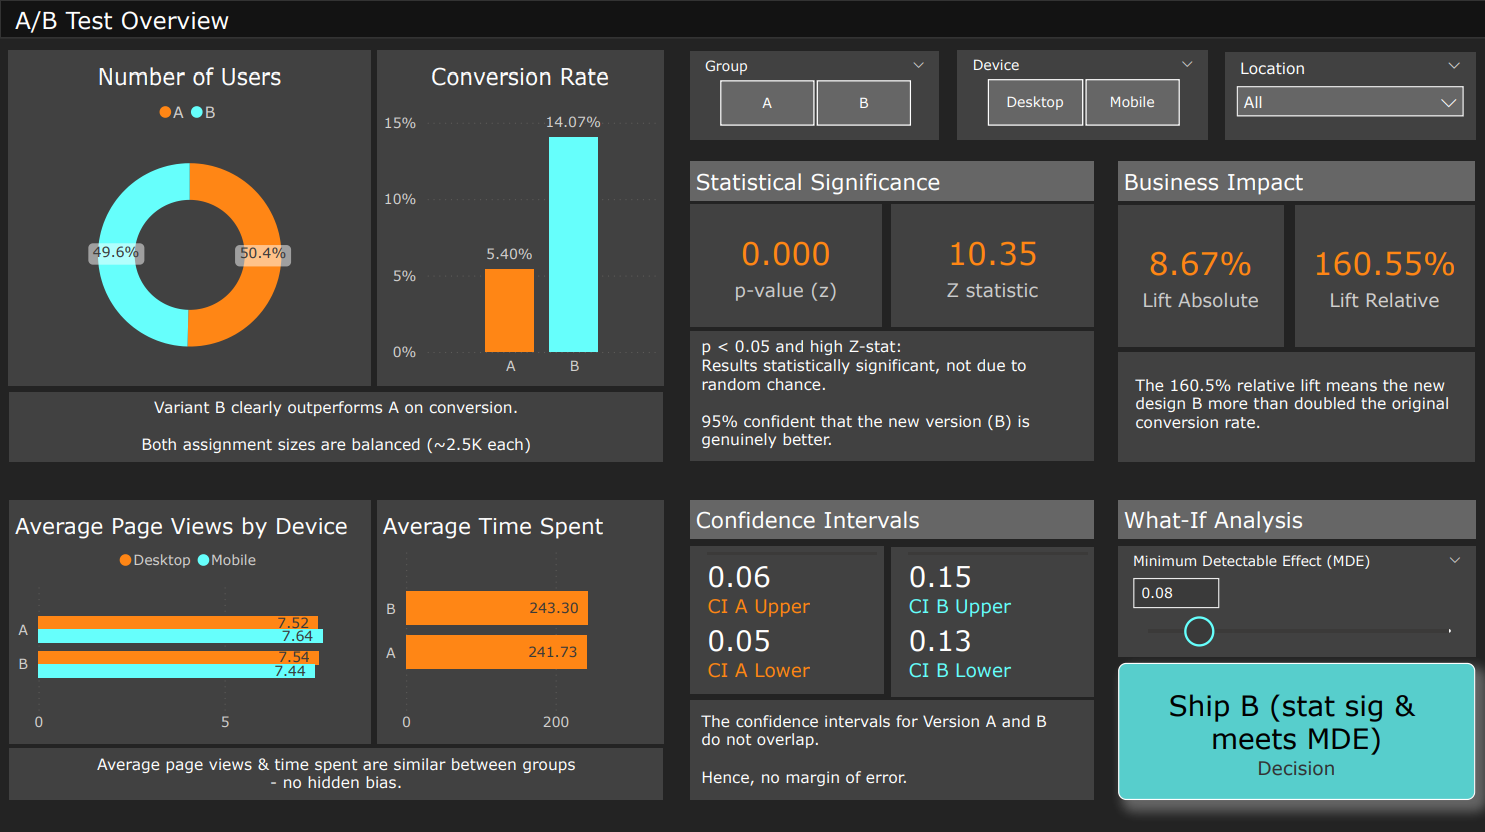

The dashboard page shown, as its layout file describes it:
{"tool":"powerbi","page":{"name":"Overview","canvas":[1280,720],"ordinal":0},"visuals":[{"type":"card","fields":{"Values":["ab_testing.Decision"]},"box":[961.5,570.6,307.6,118.2],"z":0},{"type":"card","fields":{"Values":["ab_testing.Z statistic"]},"box":[767.3,177.3,173.7,105],"z":1000},{"type":"card","fields":{"Values":["ab_testing.p-value (z)"]},"box":[593.6,177.3,165.3,105],"z":2000},{"type":"clusteredColumnChart","title":"Conversion Rate","fields":{"Category":["ab_testing.group"],"Y":["ab_testing.ConvRate (overall)"]},"box":[325.4,44.6,245.4,288.5],"z":3000},{"type":"clusteredBarChart","title":"Average Page Views by Device","fields":{"Category":["ab_testing.group"],"Y":["Avg(ab_testing.page_views)"],"Series":["ab_testing.device"]},"box":[8.8,431.2,311.2,208.8],"z":4000},{"type":"slicer","fields":{"Values":["ab_testing.group"]},"box":[593.6,45.8,214.7,74.8],"z":5000},{"type":"slicer","fields":{"Values":["ab_testing.device"]},"box":[824,44.6,214.7,76],"z":6000},{"type":"slicer","fields":{"Values":["ab_testing.location"]},"box":[1054.4,47.1,214.7,73.6],"z":7000},{"type":"donutChart","title":"Number of Users","fields":{"Y":["ab_testing.Users Count"],"Category":["ab_testing.group"]},"box":[8.4,44.6,311.3,288.3],"z":8000},{"type":"multiRowCard","fields":{"Values":["ab_testing.CI A Upper","ab_testing.CI A Lower"]},"box":[593.6,470.5,166.5,127.9],"z":9000},{"type":"textbox","box":[8.8,337.5,562.5,60],"z":10000},{"type":"textbox","box":[593.6,285.9,347.5,111],"z":11000},{"type":"textbox","title":"A/B Test Overview","box":[0,0,1280,35],"z":12000},{"type":"multiRowCard","fields":{"Values":["ab_testing.CI B Upper","ab_testing.CI B Lower"]},"box":[767.3,470.5,173.7,129.1],"z":13000},{"type":"barChart","title":"Average Time Spent","fields":{"Category":["ab_testing.group"],"Y":["Avg(ab_testing.time_spent)"]},"box":[325,431.2,246.2,208.8],"z":14000},{"type":"slicer","fields":{"Values":["MDE_pct.MDE_pct"]},"box":[961.5,470.5,307.6,95.3],"z":15000},{"type":"textbox","box":[8.8,645,562.5,43.8],"z":16000},{"type":"textbox","box":[593.6,603.2,347.5,85.7],"z":17000},{"type":"card","fields":{"Values":["ab_testing.Lift Relative"]},"box":[1113.5,177.3,154.4,121.9],"z":18000},{"type":"card","fields":{"Values":["ab_testing.Lift Absolute"]},"box":[961.5,177.3,142.4,121.9],"z":19000},{"type":"textbox","box":[961.5,304,306.4,94.1],"z":20000},{"type":"textbox","box":[593.6,139.9,347.5,33.8],"z":21000},{"type":"textbox","box":[961.5,139.9,306.4,33.8],"z":22000},{"type":"textbox","box":[593.6,430.7,347.5,33.8],"z":23000},{"type":"textbox","box":[961.5,430.7,307.6,33.8],"z":24000}]}

Visuals, with their boxes in screenshot pixels (x1, y1, x2, y2), scaled from the page's 1280x720 canvas onto the 1485x832 screenshot:
card - ab_testing.Decision: x1=1115 y1=659 x2=1472 y2=796
card - ab_testing.Z statistic: x1=890 y1=205 x2=1092 y2=326
card - ab_testing.p-value (z): x1=689 y1=205 x2=880 y2=326
"Conversion Rate" clusteredColumnChart: x1=378 y1=52 x2=662 y2=385
"Average Page Views by Device" clusteredBarChart: x1=10 y1=498 x2=371 y2=740
slicer - ab_testing.group: x1=689 y1=53 x2=938 y2=139
slicer - ab_testing.device: x1=956 y1=52 x2=1205 y2=139
slicer - ab_testing.location: x1=1223 y1=54 x2=1472 y2=139
"Number of Users" donutChart: x1=10 y1=52 x2=371 y2=385
multiRowCard - ab_testing.CI A Upper x ab_testing.CI A Lower: x1=689 y1=544 x2=882 y2=691
textbox: x1=10 y1=390 x2=663 y2=459
textbox: x1=689 y1=330 x2=1092 y2=459
"A/B Test Overview" textbox: x1=0 y1=0 x2=1484 y2=40
multiRowCard - ab_testing.CI B Upper x ab_testing.CI B Lower: x1=890 y1=544 x2=1092 y2=693
"Average Time Spent" barChart: x1=377 y1=498 x2=663 y2=740
slicer - MDE_pct.MDE_pct: x1=1115 y1=544 x2=1472 y2=654
textbox: x1=10 y1=745 x2=663 y2=796
textbox: x1=689 y1=697 x2=1092 y2=796
card - ab_testing.Lift Relative: x1=1292 y1=205 x2=1471 y2=346
card - ab_testing.Lift Absolute: x1=1115 y1=205 x2=1281 y2=346
textbox: x1=1115 y1=351 x2=1471 y2=460
textbox: x1=689 y1=162 x2=1092 y2=201
textbox: x1=1115 y1=162 x2=1471 y2=201
textbox: x1=689 y1=498 x2=1092 y2=537
textbox: x1=1115 y1=498 x2=1472 y2=537
